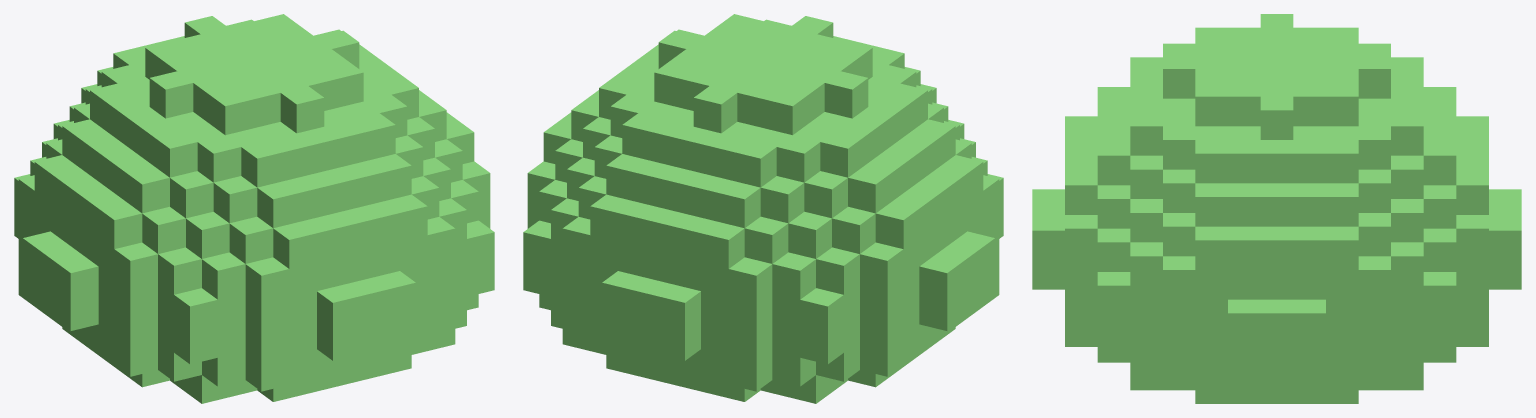
Rendered from Slime.fbx.
The picture shows the model from 3 angles, left to right: view 1: azimuth 30°, elevation 25°; view 2: azimuth 150°, elevation 25°; view 3: azimuth 270°, elevation 25°; orthographic projection.
Parts seen in each view (by area): view 1: Sphere.001; view 2: Sphere.001; view 3: Sphere.001.
Boxes of the visible parts, x1,y1,x2,y2 form: Sphere.001: [14, 14, 494, 403]; Sphere.001: [523, 14, 1003, 403]; Sphere.001: [1032, 14, 1521, 403].
Size of the model in its own units: 208 by 125 by 208.
